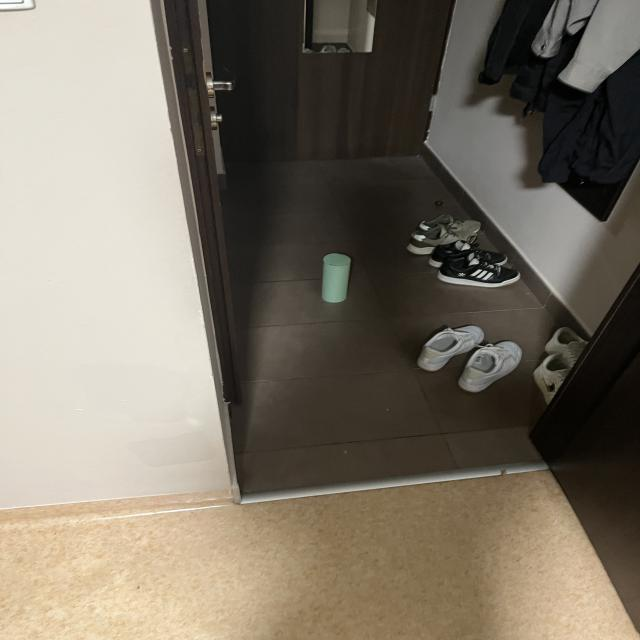meta: (322, 253, 351, 303)
